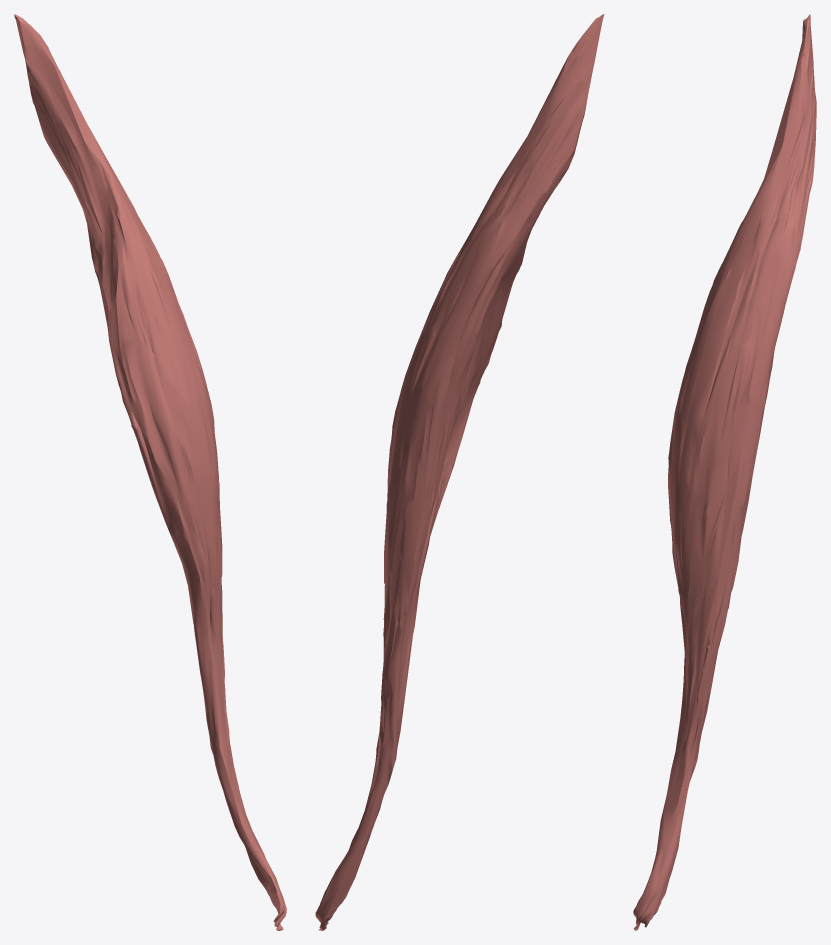
The model's file is fma38487_fj1487m.glb.
The picture shows the model from 3 angles, left to right: view 1: azimuth 30°, elevation 25°; view 2: azimuth 210°, elevation 25°; view 3: azimuth 270°, elevation 25°; orthographic projection. The views are drawn at different scales.
Visible parts, largest first — view 1: FMA38487_FJ1487M; view 2: FMA38487_FJ1487M; view 3: FMA38487_FJ1487M.
Boxes of the visible parts, x1,y1,x2,y2 form: FMA38487_FJ1487M: [14, 14, 286, 930]; FMA38487_FJ1487M: [315, 14, 604, 930]; FMA38487_FJ1487M: [633, 14, 816, 930].
Bounding box in the file's own units: 0.0724 × 0.3379 × 0.0671.
